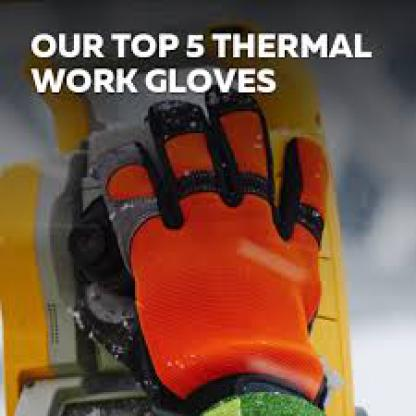with_gloves: (72, 85, 331, 411)
